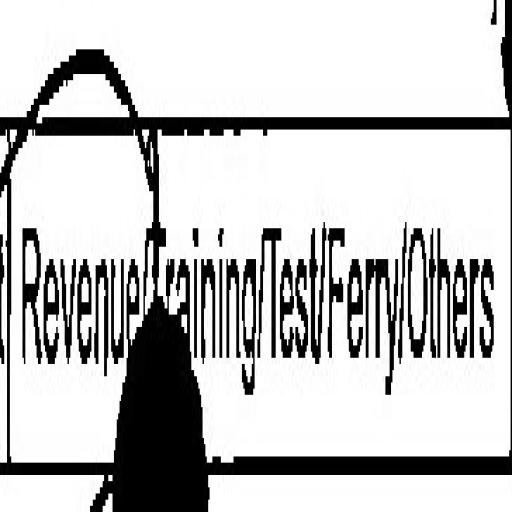check: (8, 26, 146, 512)
